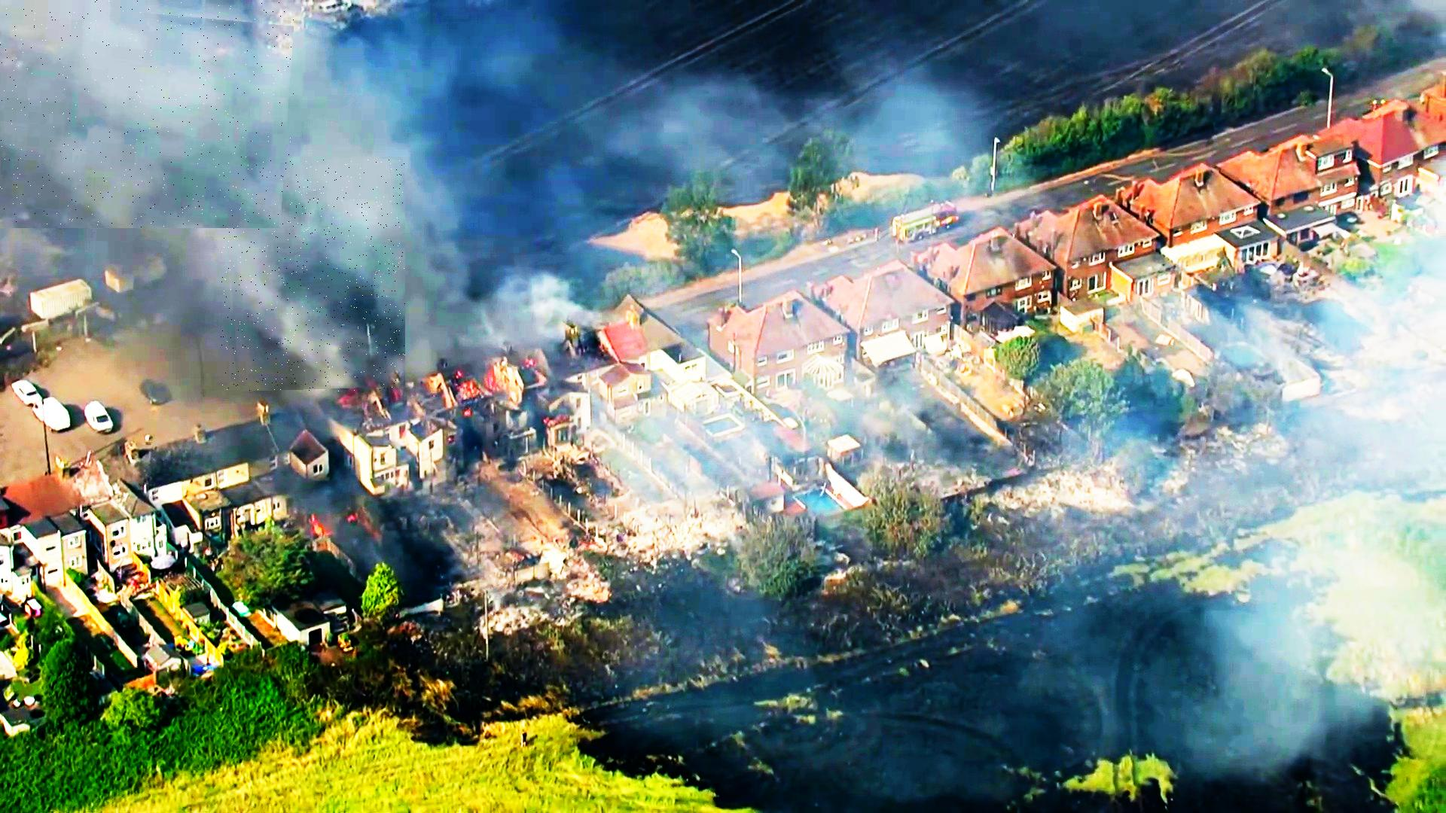smoke: (0, 0, 294, 228), (221, 159, 405, 392)
